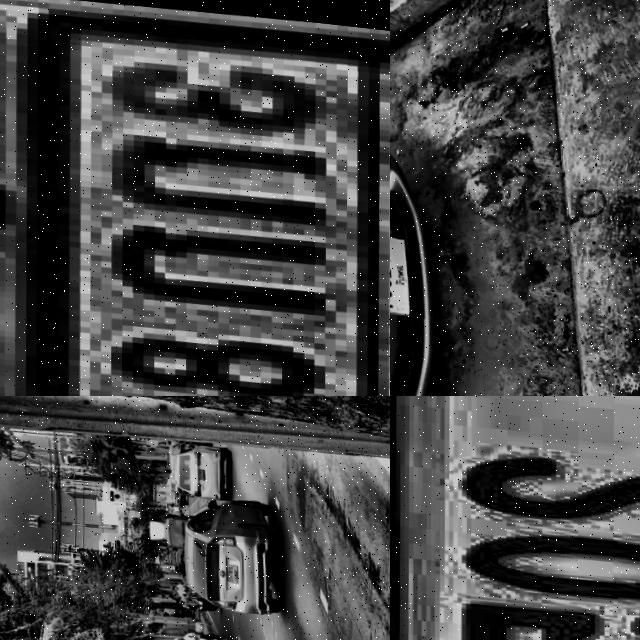license-plate: (0, 0, 390, 396), (390, 396, 640, 640), (390, 221, 413, 310), (228, 558, 238, 577), (198, 463, 204, 475)
